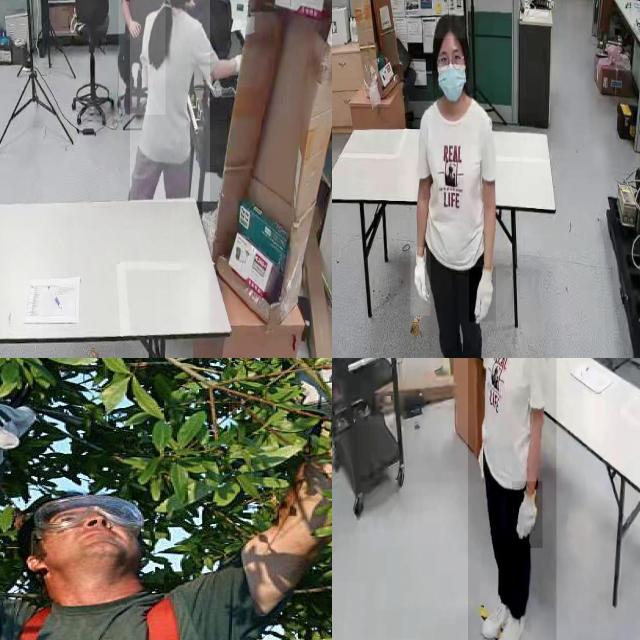face_mask: (436, 50, 470, 110)
glasses: (436, 50, 464, 71)
hand_glove: (512, 481, 543, 549), (469, 267, 497, 323), (411, 247, 431, 317)
hand_noglove: (126, 16, 142, 40)
head_nohelmet: (432, 12, 466, 39)
person: (410, 7, 507, 358), (468, 358, 557, 640), (129, 0, 210, 202), (118, 0, 165, 114)
shoes: (478, 590, 509, 640), (497, 600, 528, 640)
